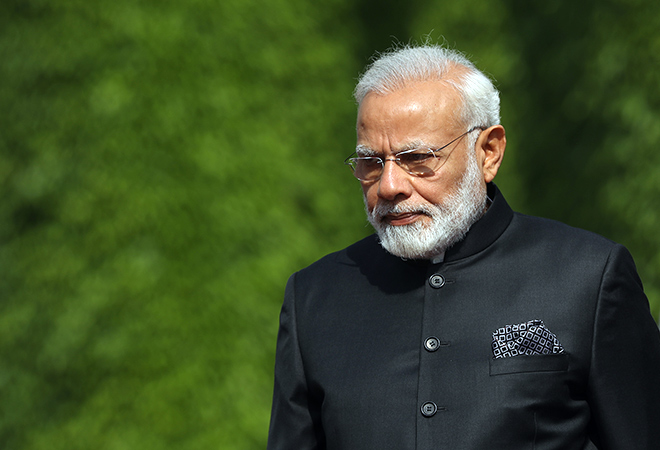modi: (306, 41, 569, 304)
